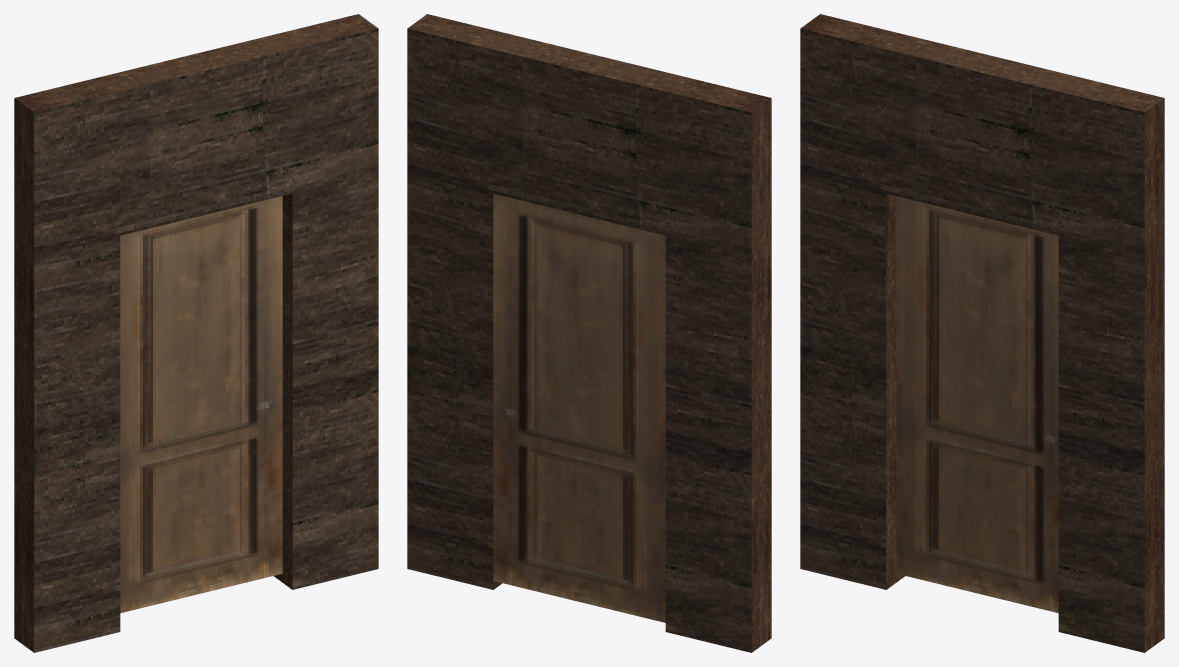
File: door_single_06.glb
The picture shows the model from 3 angles, left to right: view 1: azimuth 30°, elevation 25°; view 2: azimuth 150°, elevation 25°; view 3: azimuth 330°, elevation 25°; orthographic projection.
Parts seen in each view (by area): view 1: door_single_062, door_06_002; view 2: door_single_062, door_06_002; view 3: door_single_062, door_06_002.
Boxes of the visible parts, box(x1,y1,x2,y2) form: door_single_062: box(14, 14, 378, 652); door_06_002: box(120, 196, 282, 613); door_single_062: box(407, 14, 771, 652); door_06_002: box(493, 193, 665, 622); door_single_062: box(800, 14, 1164, 652); door_06_002: box(896, 196, 1058, 613).
Bounding box in the file's own units: 2 × 3 × 0.2.
2 materials, 2 textured.
